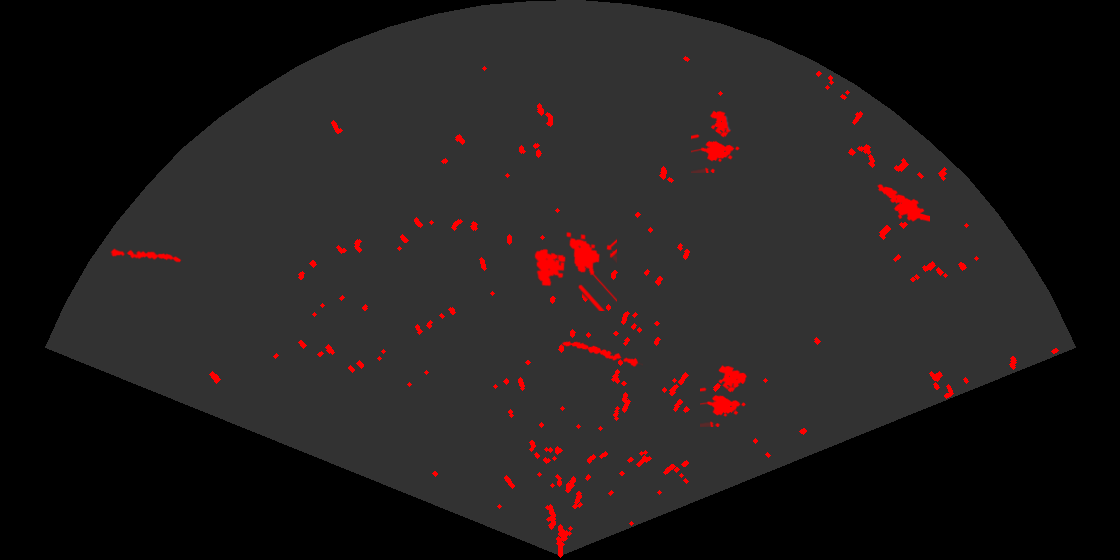cage: (533, 230, 617, 311), (691, 109, 741, 173), (700, 363, 749, 427)
chain: (560, 340, 643, 368), (110, 247, 183, 264)
frogman: (875, 183, 930, 223)
